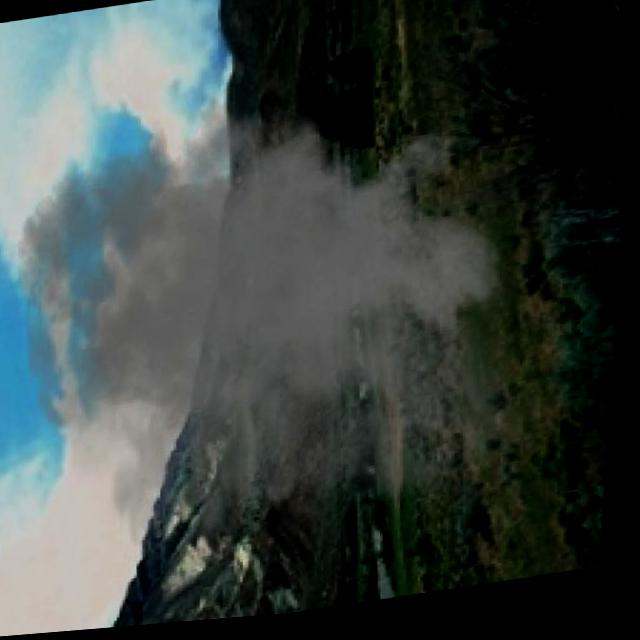no_helmet: (16, 39, 561, 624)
